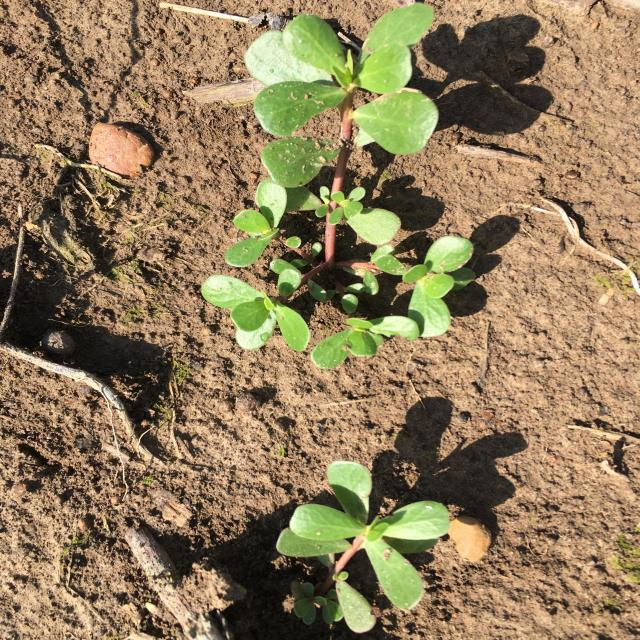Purslane: (201, 2, 476, 370), (276, 461, 450, 633)
